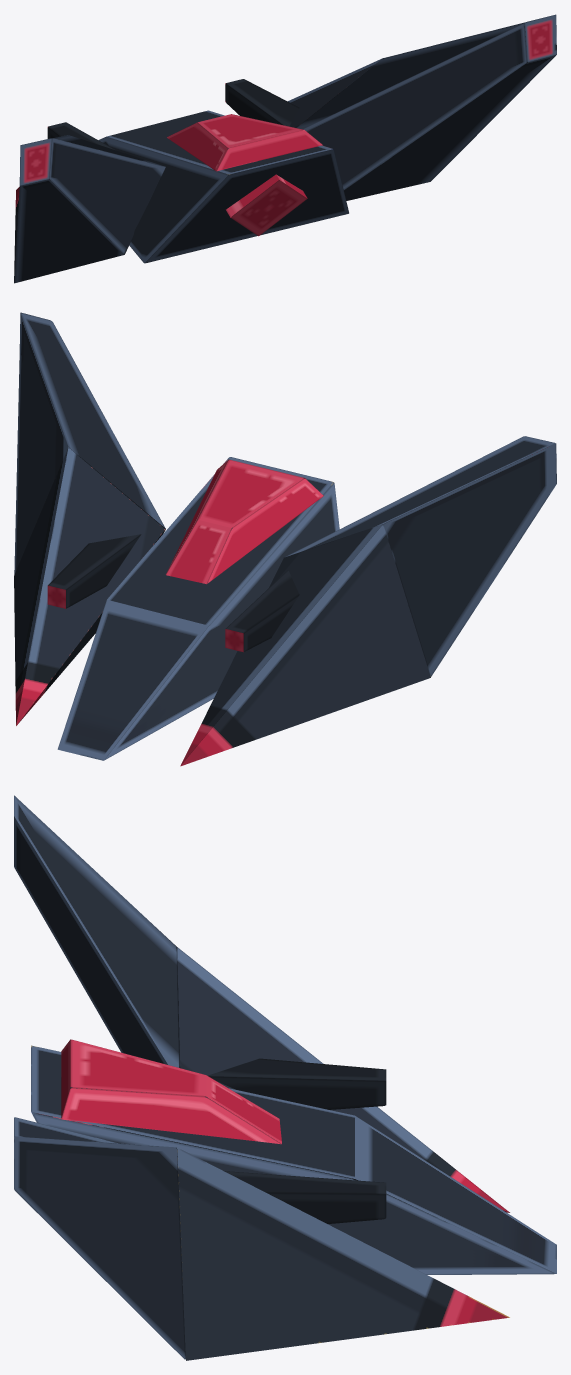
Rendered from EnemySpaceship.fbx.
The picture shows the model from 3 angles, top to bottom: view 1: azimuth 30°, elevation 25°; view 2: azimuth 150°, elevation 25°; view 3: azimuth 270°, elevation 25°; orthographic projection. The views are drawn at different scales.
Visible parts, largest first — view 1: Propulsor Right, Cuerpo, Propulsor Left, Cabina, Propilsor trasero, cube_1, Ala/Arma Right, cube; view 2: Cuerpo, Ala/Arma Left, Propulsor Left, Ala/Arma Right, Propulsor Right, Cabina, cube_1, cube; view 3: Ala/Arma Right, Cuerpo, Propulsor Right, Propulsor Left, Cabina, Ala/Arma Left, cube, cube_1.
Part boxes in pixels (x1=…): Propulsor Right: x1=297, y1=14, x2=556, y2=200; Cuerpo: x1=98, y1=110, x2=348, y2=263; Propulsor Left: x1=14, y1=135, x2=165, y2=283; Cabina: x1=167, y1=114, x2=322, y2=171; Propilsor trasero: x1=226, y1=174, x2=307, y2=236; cube_1: x1=225, y1=79, x2=299, y2=126; Ala/Arma Right: x1=288, y1=58, x2=382, y2=127; cube: x1=47, y1=122, x2=116, y2=150; Cuerpo: x1=57, y1=457, x2=339, y2=760; Ala/Arma Left: x1=180, y1=524, x2=430, y2=766; Propulsor Left: x1=284, y1=436, x2=556, y2=676; Ala/Arma Right: x1=14, y1=447, x2=165, y2=725; Propulsor Right: x1=14, y1=312, x2=165, y2=574; Cabina: x1=165, y1=459, x2=323, y2=584; cube_1: x1=47, y1=534, x2=141, y2=608; cube: x1=225, y1=570, x2=299, y2=652; Ala/Arma Right: x1=177, y1=1147, x2=509, y2=1360; Cuerpo: x1=31, y1=1045, x2=556, y2=1274; Propulsor Right: x1=14, y1=1117, x2=185, y2=1359; Propulsor Left: x1=14, y1=795, x2=183, y2=1143; Cabina: x1=61, y1=1039, x2=281, y2=1144; Ala/Arma Left: x1=177, y1=947, x2=509, y2=1212; cube: x1=208, y1=1058, x2=386, y2=1109; cube_1: x1=224, y1=1171, x2=386, y2=1223.
Bounding box in the file's own units: 1474 × 602 × 988.
1 material, 1 textured.
